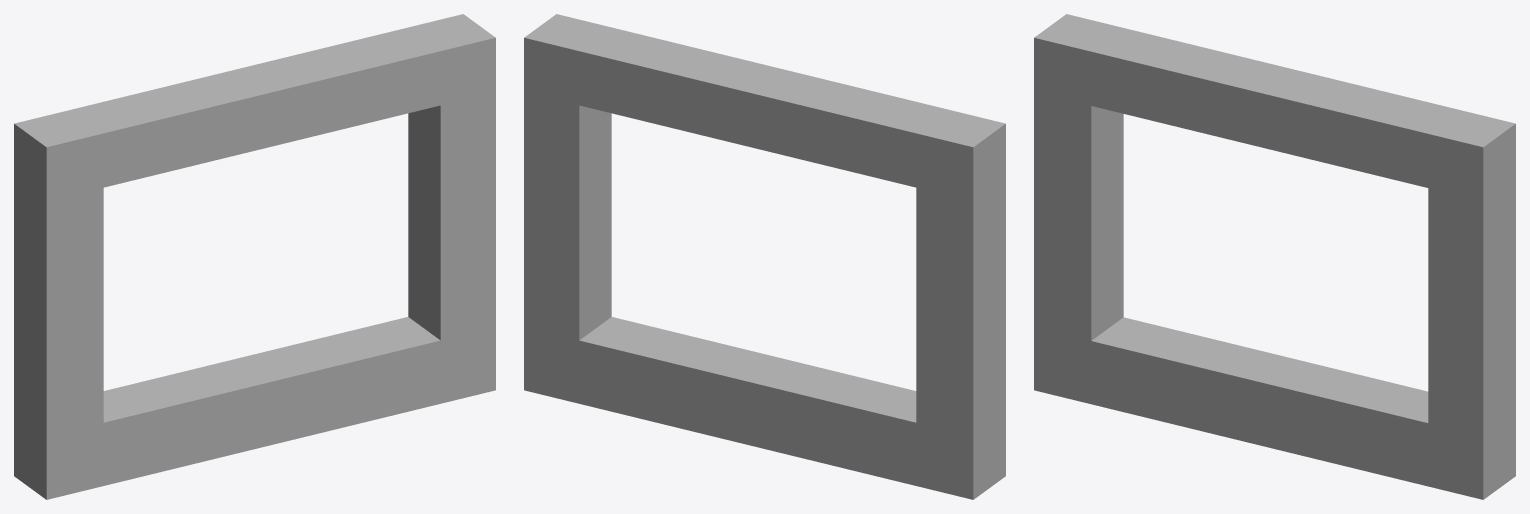
The model's file is Window.fbx.
3 renders of one model, left to right at view 1: azimuth 30°, elevation 25°; view 2: azimuth 150°, elevation 25°; view 3: azimuth 330°, elevation 25°, orthographic.
Parts seen in each view (by area): view 1: pCube6; view 2: pCube6; view 3: pCube6.
Part boxes in pixels (bbox=[...]): pCube6: bbox=[14, 14, 495, 499]; pCube6: bbox=[524, 14, 1005, 499]; pCube6: bbox=[1034, 14, 1515, 499].
Bounding box in the file's own units: 8 × 6 × 1.
